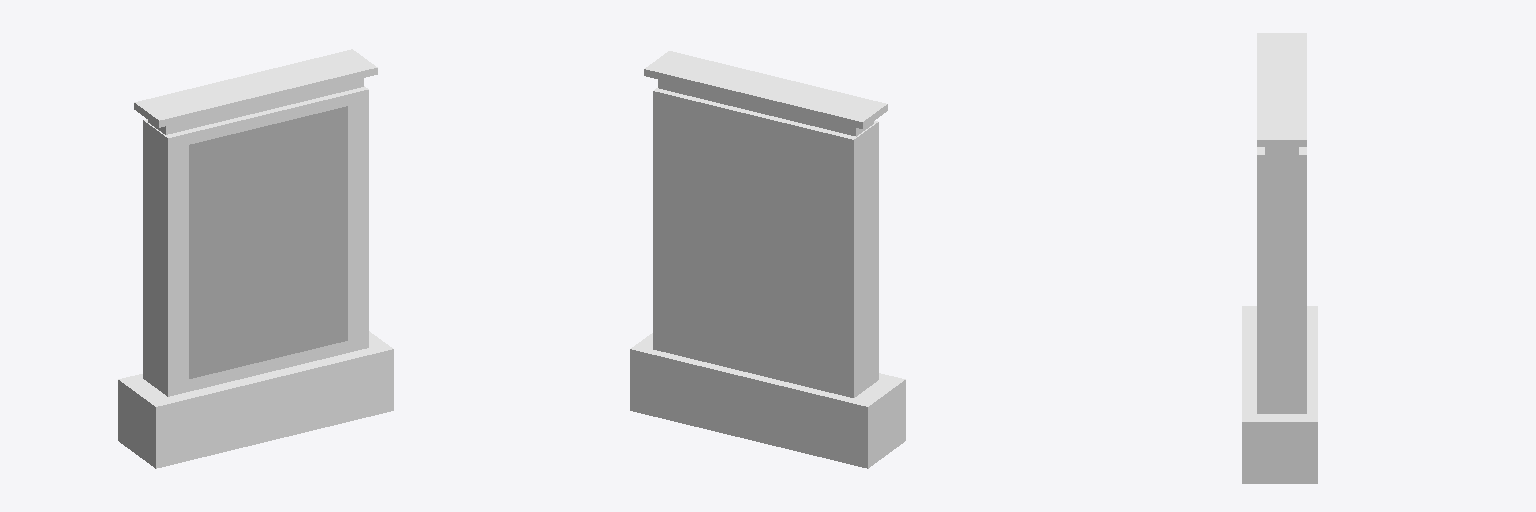
The model's file is affiche4.obj.
3 renders of one model, left to right at view 1: azimuth 30°, elevation 25°; view 2: azimuth 150°, elevation 25°; view 3: azimuth 270°, elevation 25°, orthographic.
Parts seen in each view (by area): view 1: affiche4, Cube.1, Cube.4, Cube.2, Cube.3; view 2: Cube.1, Cube.4, Cube.2, Cube.3; view 3: Cube.1, Cube.4, Cube.2.
Boxes of the visible parts, box(x1,y1,x2,y2) form: affiche4: box(189, 106, 347, 378); Cube.1: box(143, 86, 368, 396); Cube.4: box(118, 331, 393, 468); Cube.2: box(134, 49, 377, 127); Cube.3: box(148, 78, 363, 134); Cube.1: box(653, 88, 878, 397); Cube.4: box(630, 333, 905, 468); Cube.2: box(644, 51, 887, 128); Cube.3: box(658, 80, 873, 136); Cube.1: box(1257, 147, 1306, 413); Cube.4: box(1242, 306, 1317, 483); Cube.2: box(1257, 33, 1306, 146).
Size of the model in its own units: 459 by 628 by 126.